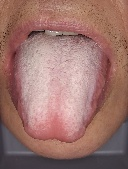tongue: (11, 39, 108, 144)
